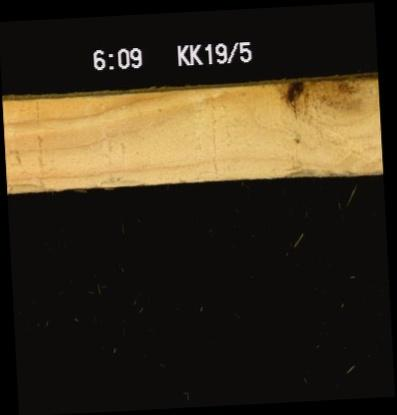wave: (272, 161, 357, 176), (92, 170, 146, 186), (6, 178, 56, 191)
